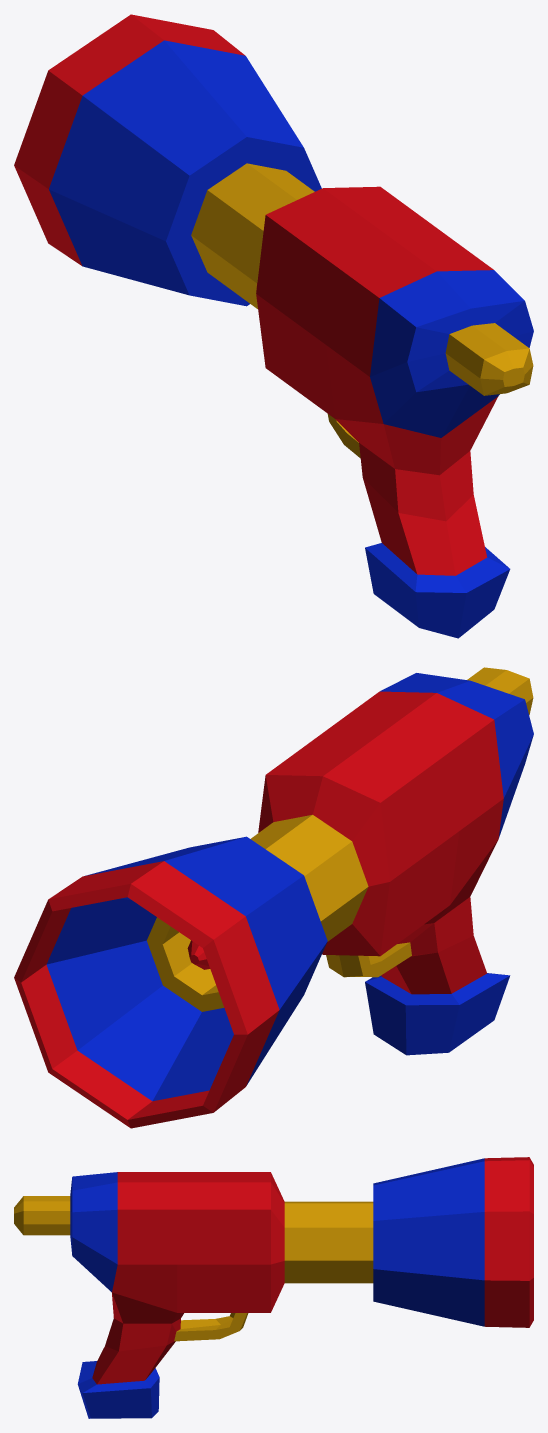
The model's file is toygun.fbx.
3 views of the same model, one above another, from view 1: azimuth 30°, elevation 25°; view 2: azimuth 150°, elevation 25°; view 3: azimuth 270°, elevation 25° (orthographic). The views are drawn at different scales.
Parts seen in each view (by area): view 1: Cylinder; view 2: Cylinder; view 3: Cylinder.
Boxes of the visible parts, bbox=[...] form: Cylinder: bbox=[14, 14, 533, 638]; Cylinder: bbox=[14, 667, 533, 1128]; Cylinder: bbox=[14, 1157, 533, 1418].
Size of the model in its own units: 2.89 by 4.54 by 8.27.
